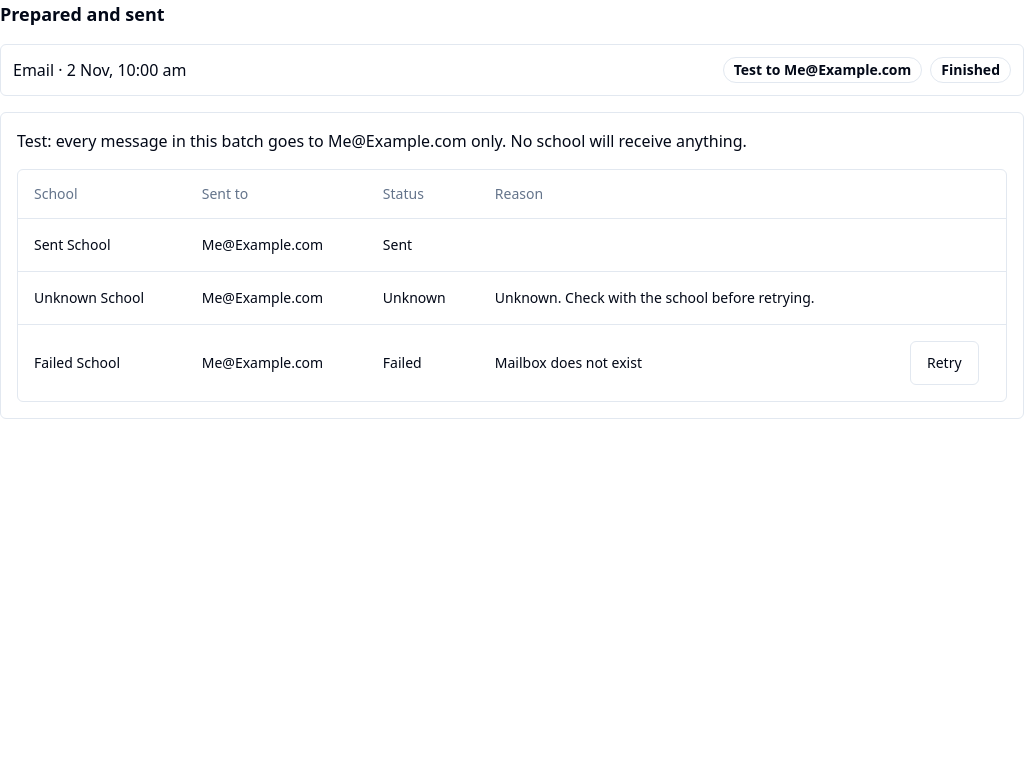
Scenario: Release & Send › keeps Send disabled for a test batch until the test address is retyped
The width and height of the screenshot is (1024, 768).
Step 1. Click the button "Retry" → (944, 362), box [910,340,979,384]
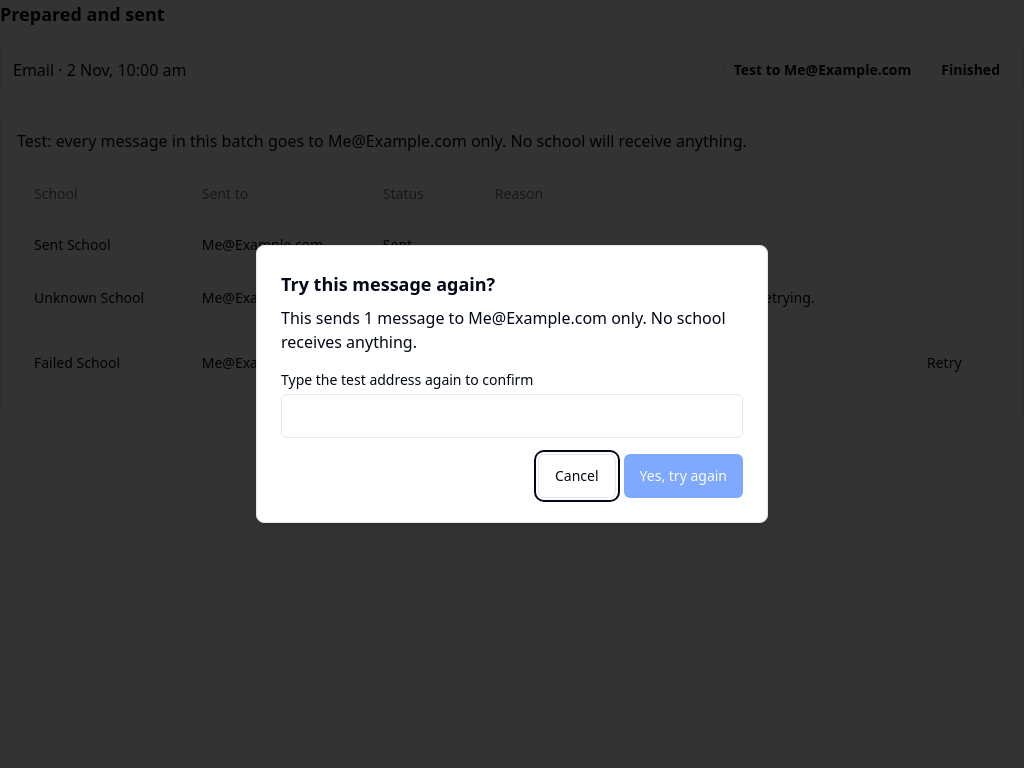
Expected: the button "Yes, try again" is disabled, [624,454,743,498]
Step 2. Type "me@exampl.com" into the field labelled "Type the test address again to confirm" → (512, 416), box [281,394,743,438]
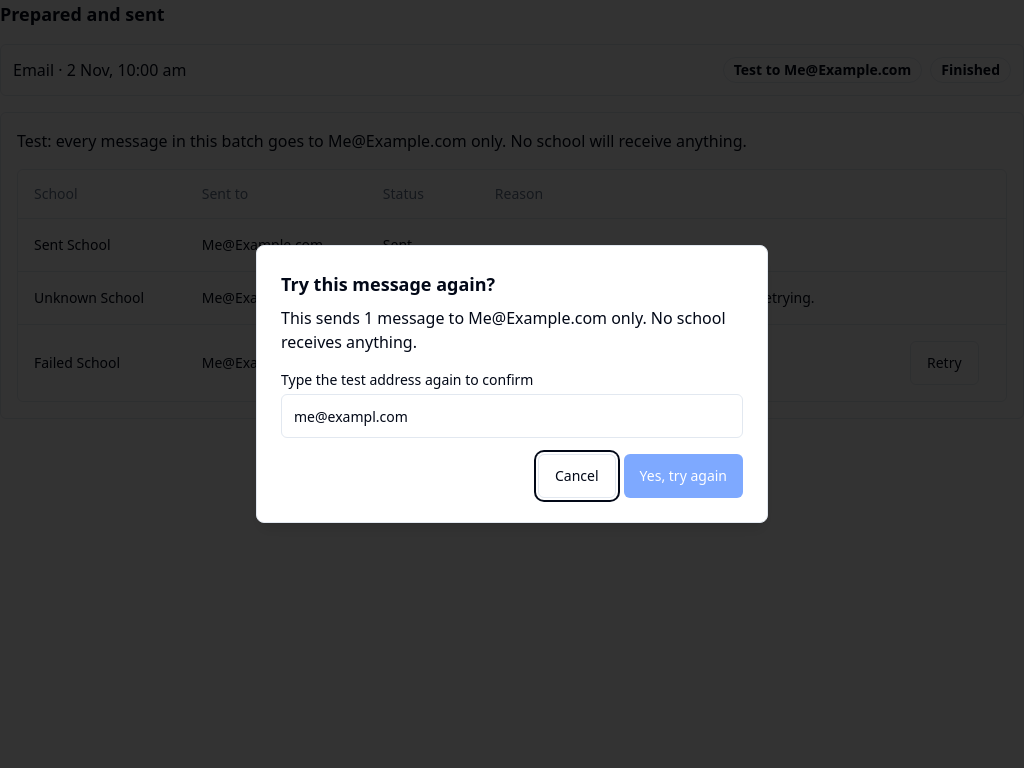
Expected: the button "Yes, try again" is disabled, [624,454,743,498]
Step 3. Replace the text in the field labelled "Type the test address again to confirm" with " me@example.com " → (512, 416), box [281,394,743,438]
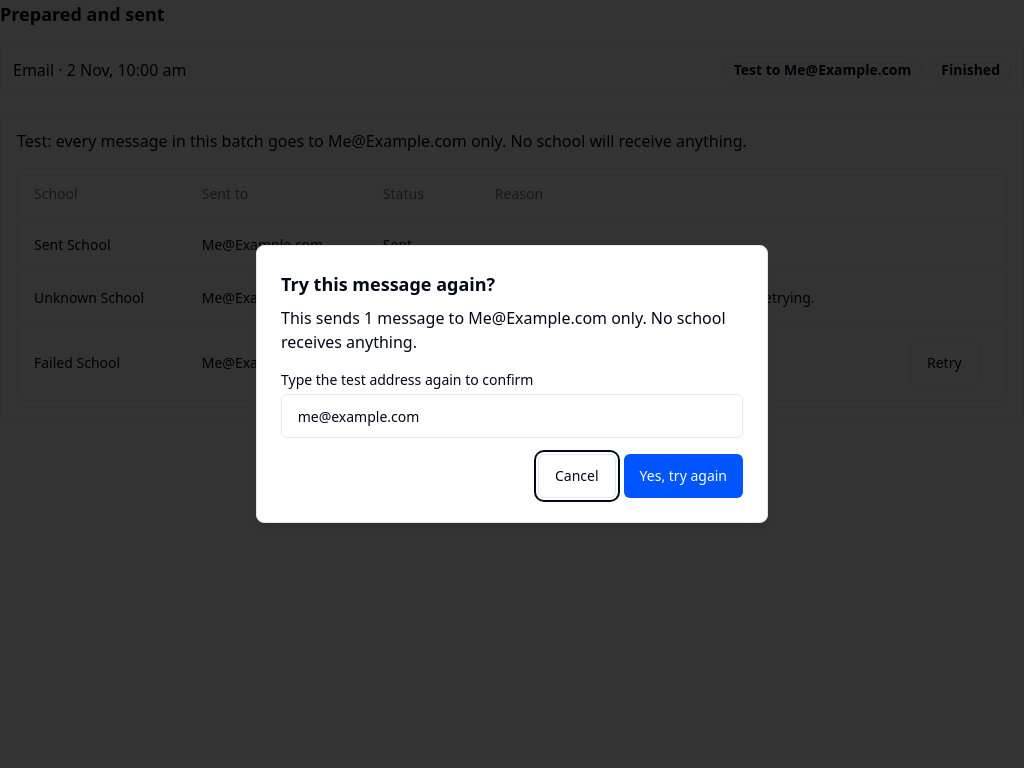
Expected: the button "Yes, try again" is enabled, [624,454,743,498]
